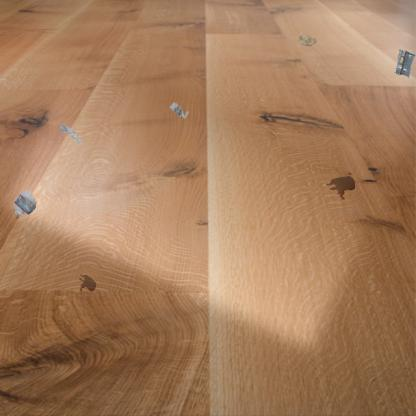dirty: (12, 188, 38, 217), (394, 48, 416, 78), (58, 124, 84, 146), (295, 30, 319, 48), (168, 101, 189, 120)
liquid: (326, 176, 355, 200), (78, 273, 98, 293)
